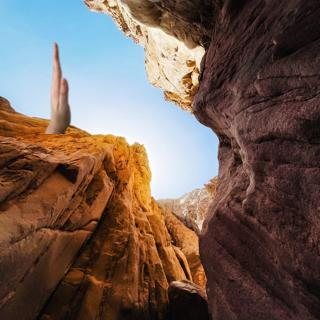Right: (43, 39, 76, 136)
